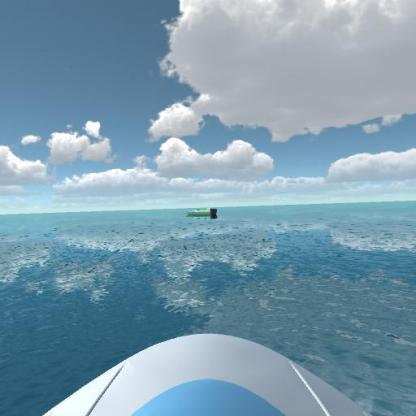usv0: (188, 200, 220, 221)
